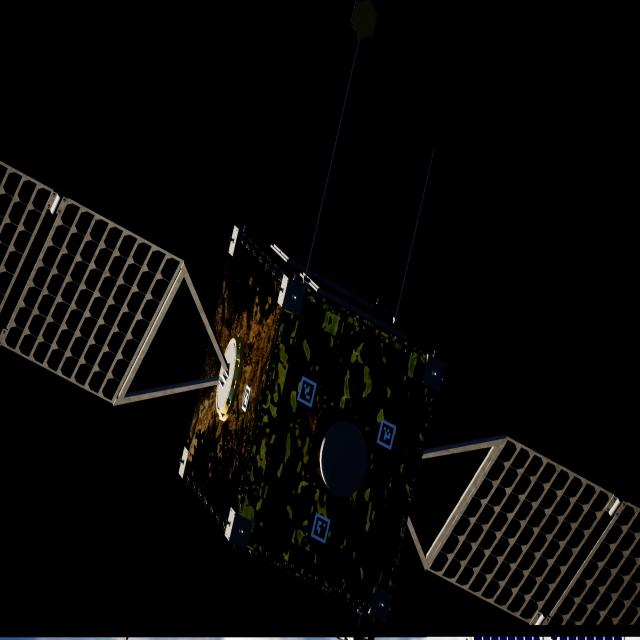medium_debris: (0, 161, 640, 640)
